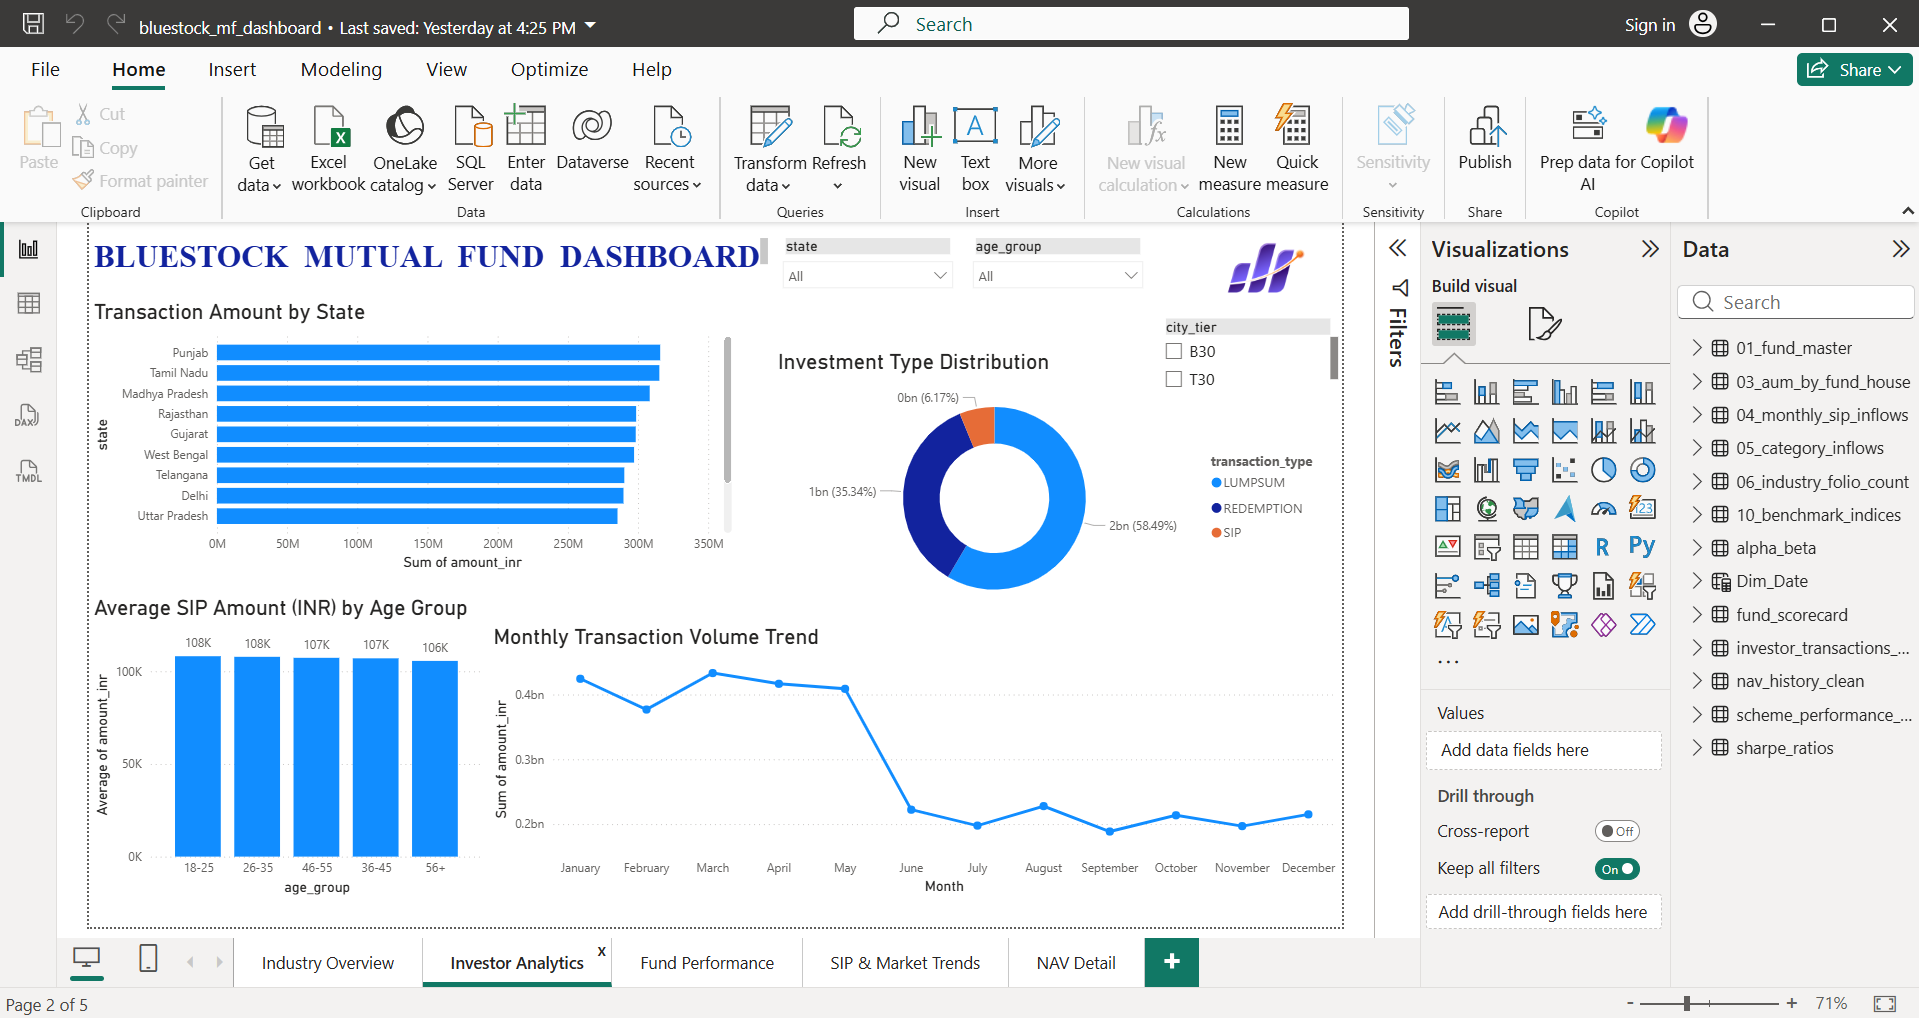

What the dashboard file says about the page in this screenshot:
{"tool":"powerbi","page":{"name":"Investor Analytics","canvas":[1280,720],"ordinal":1},"visuals":[{"type":"clusteredBarChart","title":"Transaction Amount by State","fields":{"Category":["investor_transactions_clean.state"],"Y":["Sum(investor_transactions_clean.amount_inr)"]},"box":[0,79,661.3,280.6],"z":0},{"type":"donutChart","title":"Investment Type Distribution","fields":{"Y":["Sum(investor_transactions_clean.amount_inr)"],"Category":["investor_transactions_clean.transaction_type"]},"box":[698.4,130.6,571,279],"z":1000},{"type":"clusteredColumnChart","title":"Average SIP Amount (INR) by Age Group","fields":{"Category":["investor_transactions_clean.age_group"],"Y":["Avg(investor_transactions_clean.amount_inr)"]},"box":[0,380.6,407.5,310.4],"z":2000},{"type":"lineChart","title":"Monthly Transaction Volume Trend","fields":{"Category":["investor_transactions_clean.transaction_date.Variation.Date Hierarchy.Month"],"Y":["Sum(investor_transactions_clean.amount_inr)"]},"box":[407.5,410.4,873.1,280.6],"z":3000},{"type":"slicer","fields":{"Values":["investor_transactions_clean.state"]},"box":[698.4,11.3,193.5,69.4],"z":4000},{"type":"slicer","fields":{"Values":["investor_transactions_clean.age_group"]},"box":[892.5,11.9,194,82.1],"z":5000},{"type":"slicer","fields":{"Values":["investor_transactions_clean.city_tier"]},"box":[1087.1,93.5,193.5,83.9],"z":6000},{"type":"textbox","box":[0,11.3,698.4,41.9],"z":7000},{"type":"image","box":[1119.4,0,161.3,93.5],"z":8000}]}

Visuals, with their boxes on the page's 1280x720 design canvas (x1, y1, x2, y2). These are canvas units, not pixel positions in the 1919x1018 screenshot, which may show the page scaled, cropped or inside an application window:
"Transaction Amount by State" clusteredBarChart: {"x1": 0, "y1": 79, "x2": 661, "y2": 360}
"Investment Type Distribution" donutChart: {"x1": 698, "y1": 131, "x2": 1269, "y2": 410}
"Average SIP Amount (INR) by Age Group" clusteredColumnChart: {"x1": 0, "y1": 381, "x2": 408, "y2": 691}
"Monthly Transaction Volume Trend" lineChart: {"x1": 408, "y1": 410, "x2": 1281, "y2": 691}
slicer - investor_transactions_clean.state: {"x1": 698, "y1": 11, "x2": 892, "y2": 81}
slicer - investor_transactions_clean.age_group: {"x1": 892, "y1": 12, "x2": 1086, "y2": 94}
slicer - investor_transactions_clean.city_tier: {"x1": 1087, "y1": 94, "x2": 1281, "y2": 177}
textbox: {"x1": 0, "y1": 11, "x2": 698, "y2": 53}
image: {"x1": 1119, "y1": 0, "x2": 1281, "y2": 94}
